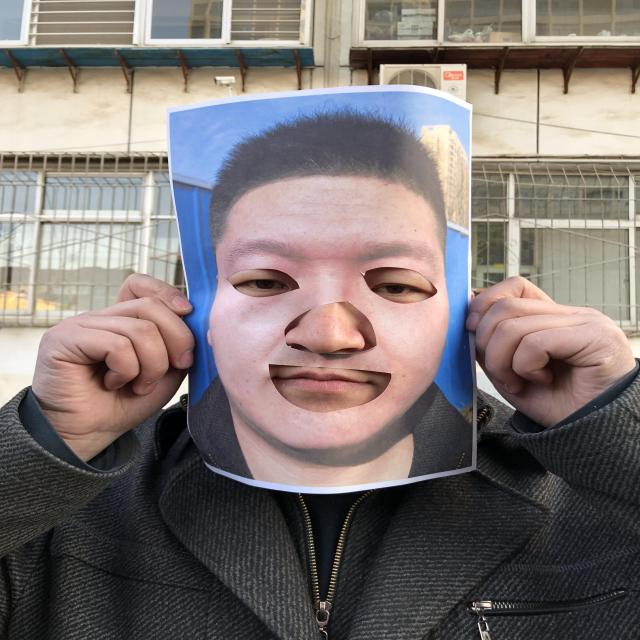mask: (162, 84, 484, 493)
